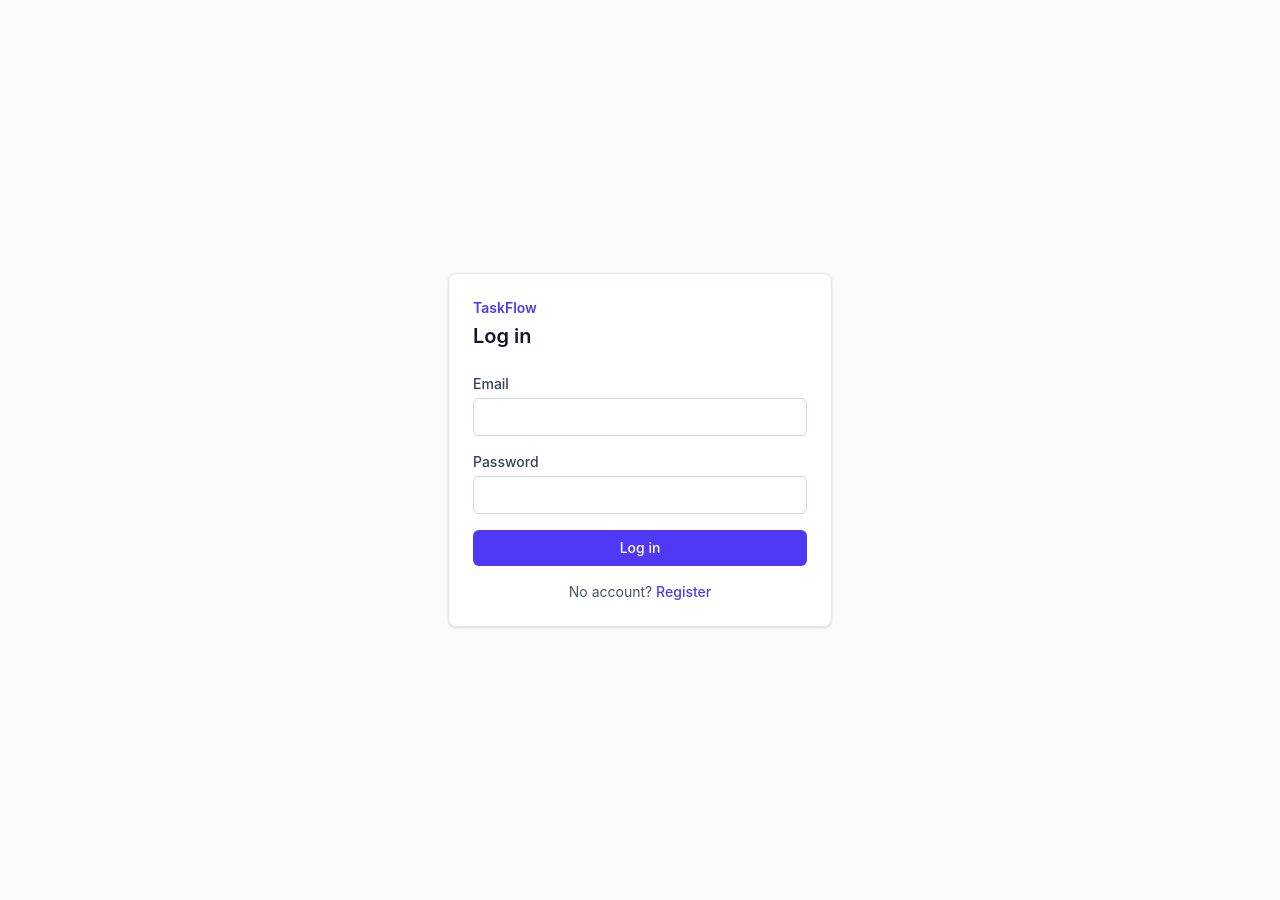
Test: logs in, stores the token and shows the projects page
Type "ali@example.com" into the field labelled "Email" at (640, 417), box [473, 398, 807, 436]
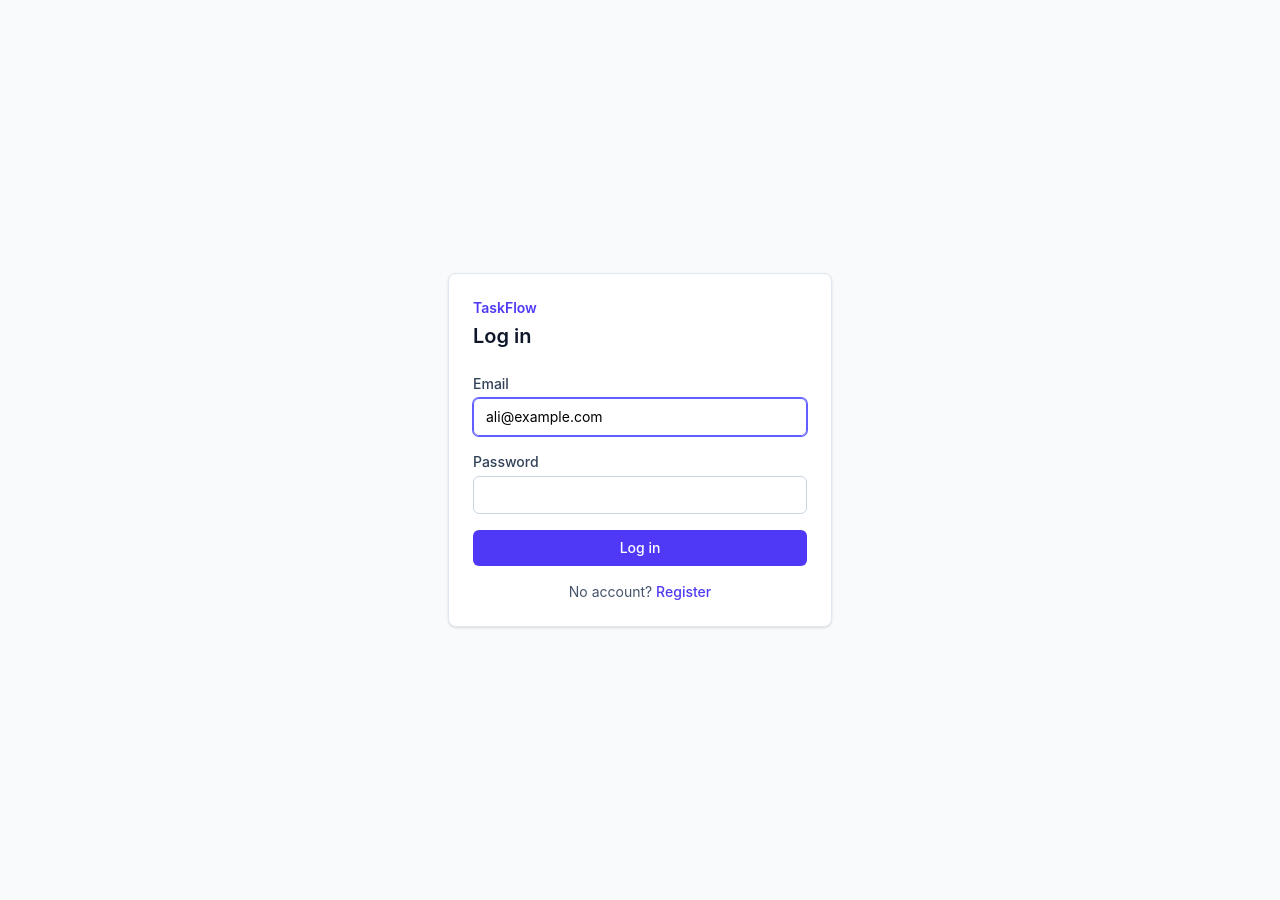
Type "password123" into the password field labelled "Password" at (640, 495), box [473, 476, 807, 514]
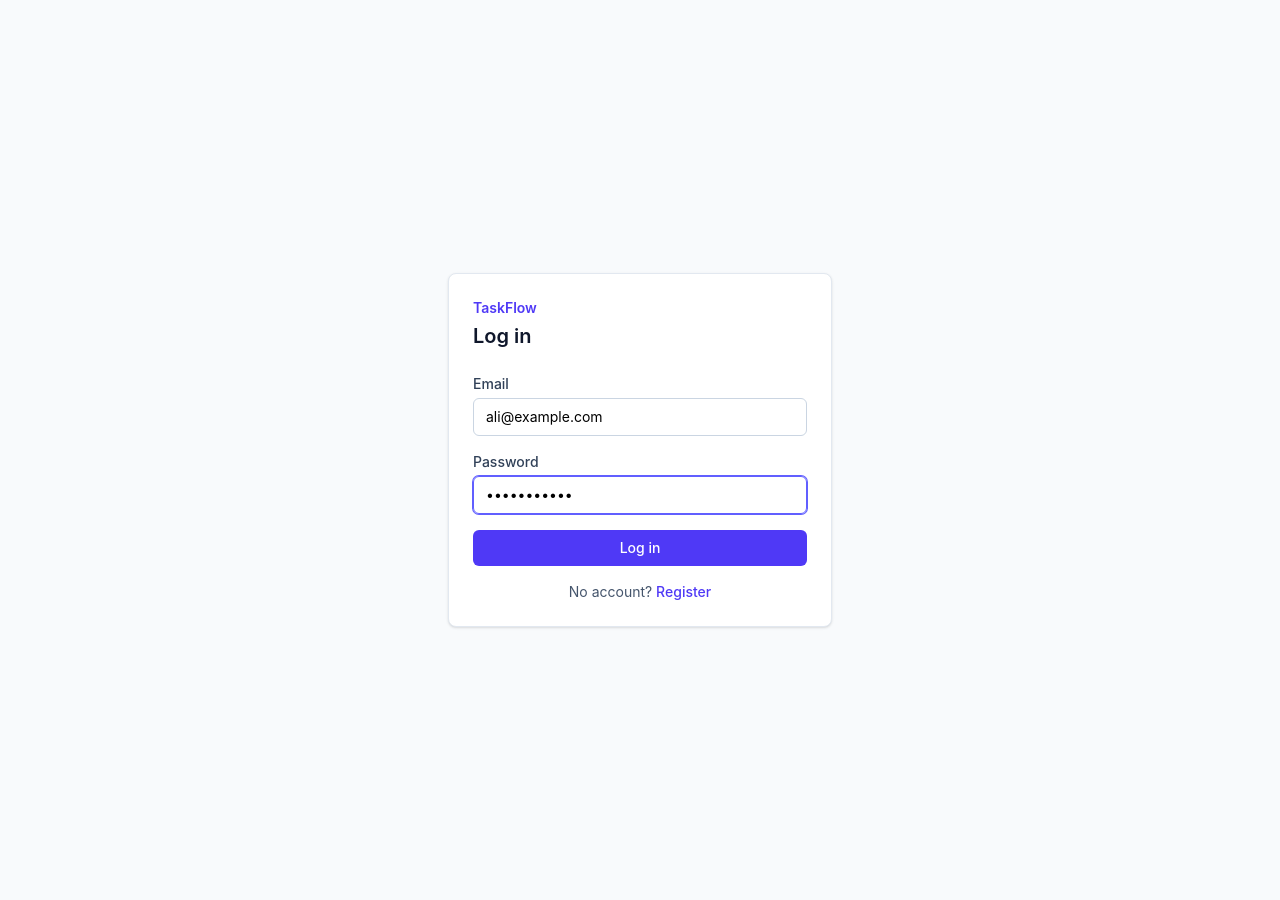
Click the button "Log in" at (640, 548), box [473, 530, 807, 566]
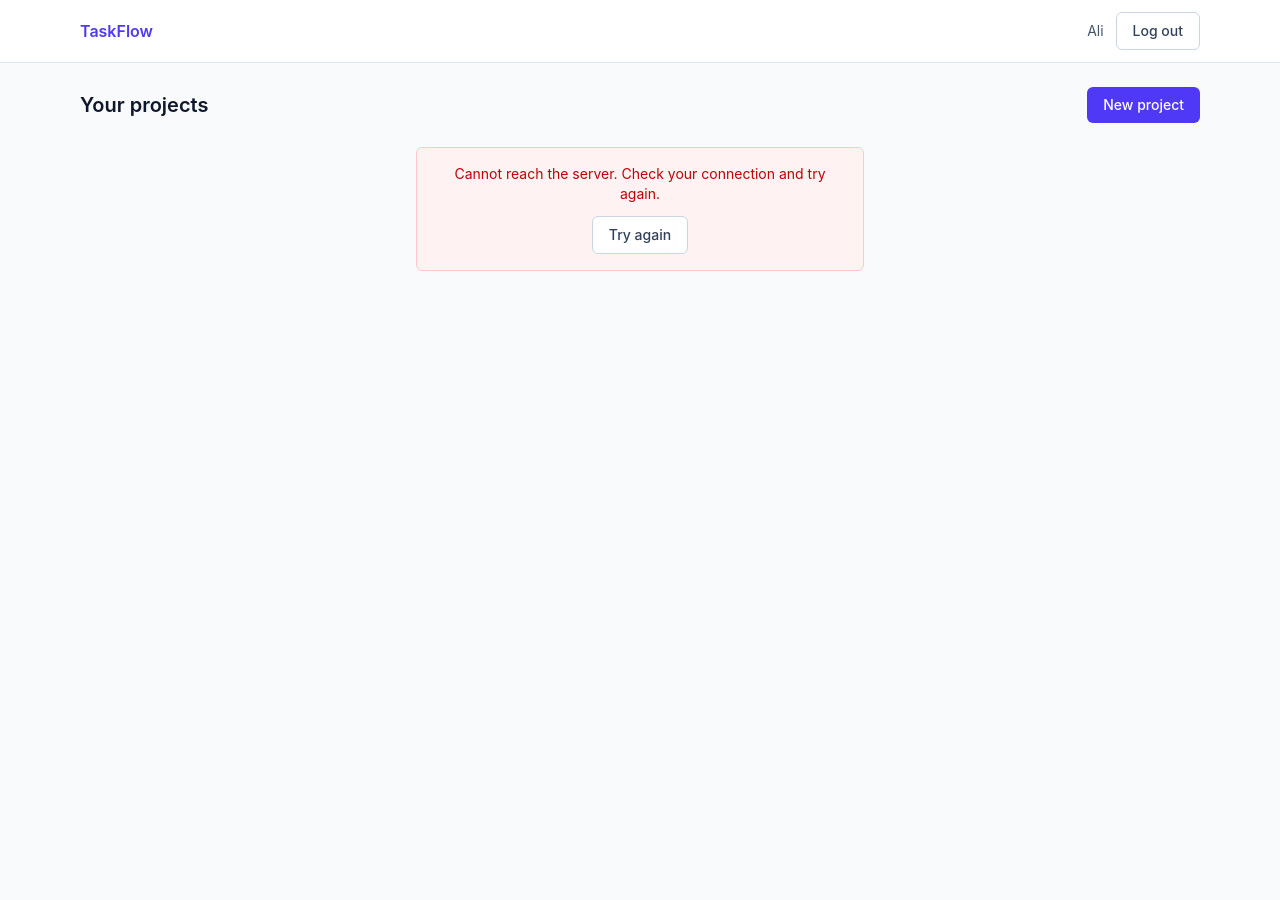
Check: the heading "Your projects" is shown, box [80, 91, 208, 119]
